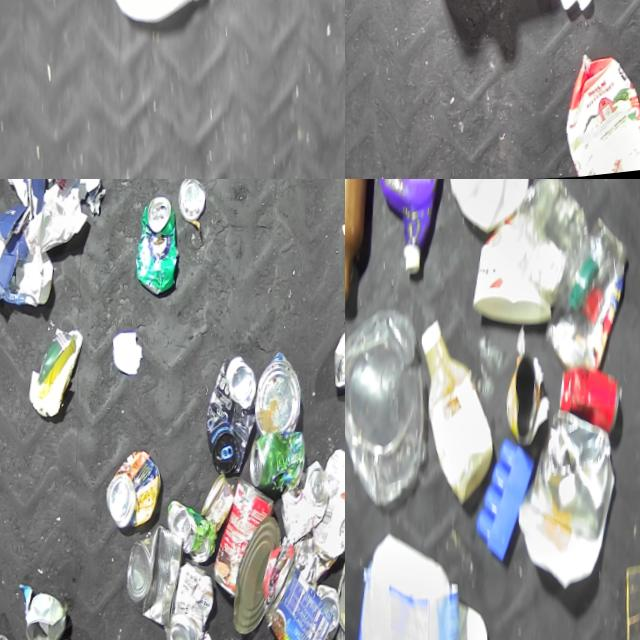can: (205, 483, 275, 610), (199, 361, 259, 486), (118, 527, 184, 640), (225, 524, 280, 640), (254, 569, 332, 640), (554, 370, 621, 449), (131, 199, 181, 304), (101, 453, 161, 539), (274, 468, 328, 557), (249, 359, 303, 446), (158, 565, 213, 640), (501, 360, 544, 455), (243, 437, 303, 505), (162, 504, 215, 575), (195, 480, 233, 542), (18, 595, 65, 640), (176, 182, 207, 231), (329, 552, 345, 640), (309, 592, 337, 640), (328, 326, 345, 402)
milk_jug: (345, 527, 457, 640), (439, 179, 534, 247)
non_white_jug: (556, 50, 640, 179), (372, 179, 446, 285)
